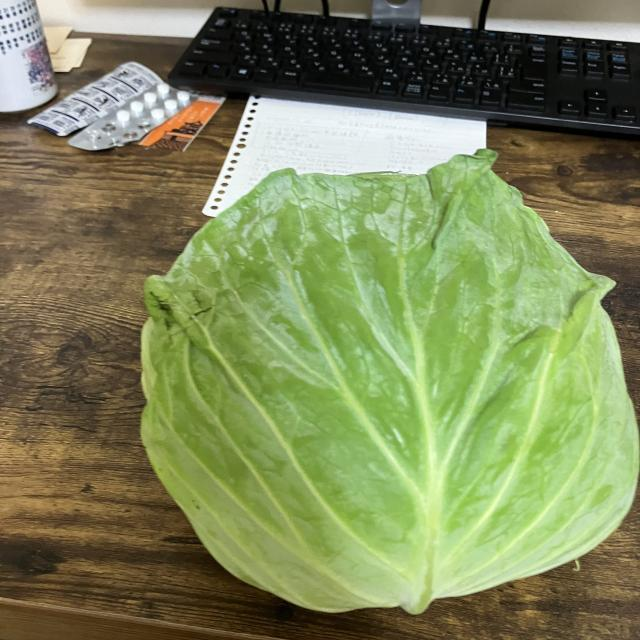cabbage: (136, 142, 640, 621)
